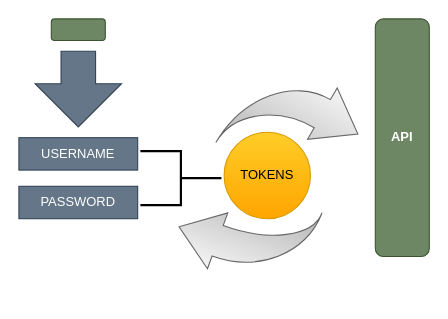
This 448x319 diagram has some shape labels left out. Here are the shapes that lost their labels. From the top down, the box of each, then its label:
(50, 18, 105, 40): CLIENT
(34, 50, 122, 127): generate
